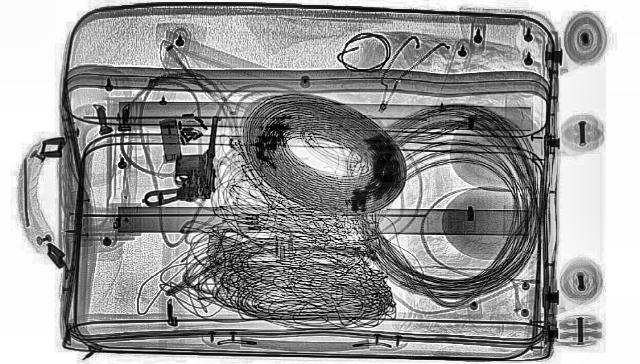Gun: (136, 109, 252, 211)
